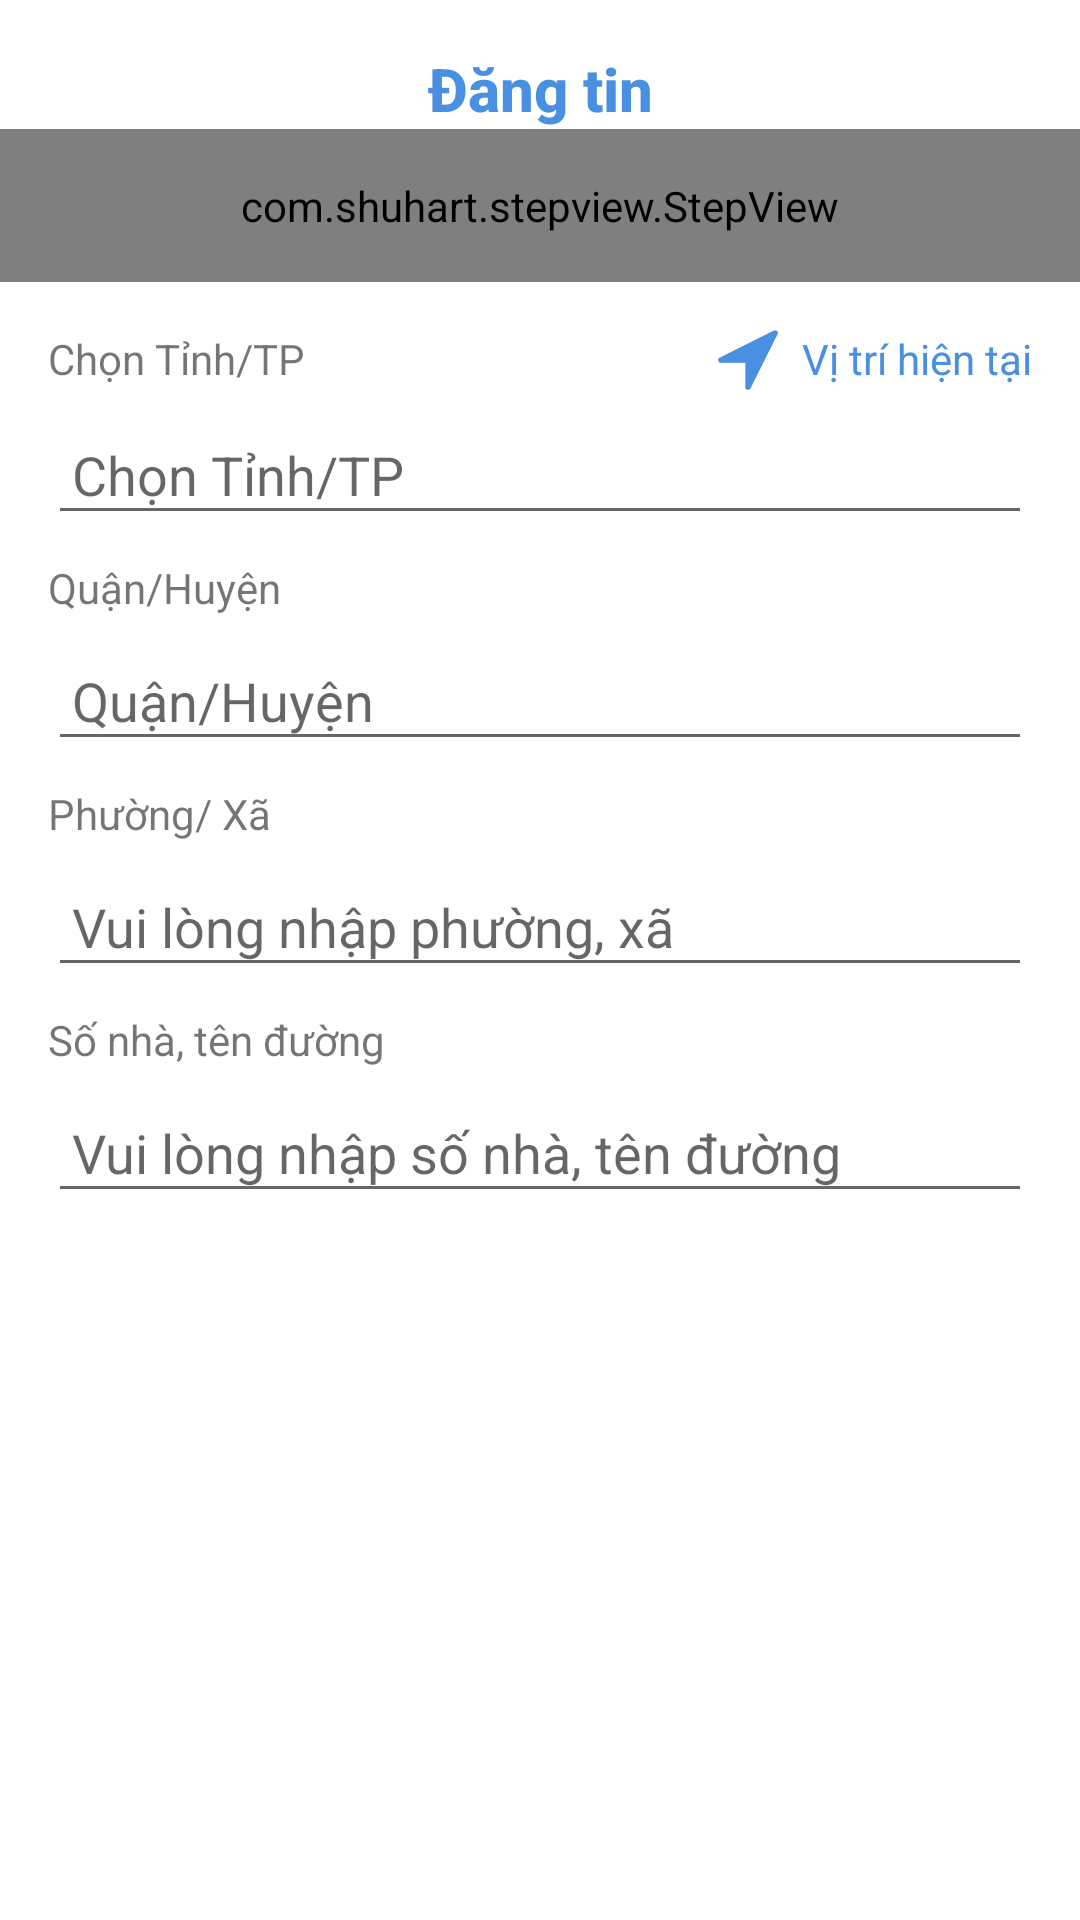

Where to tap for icons on this 1080 × 1920 app screen, as point (x, y):
location arrow: point (748, 360)
